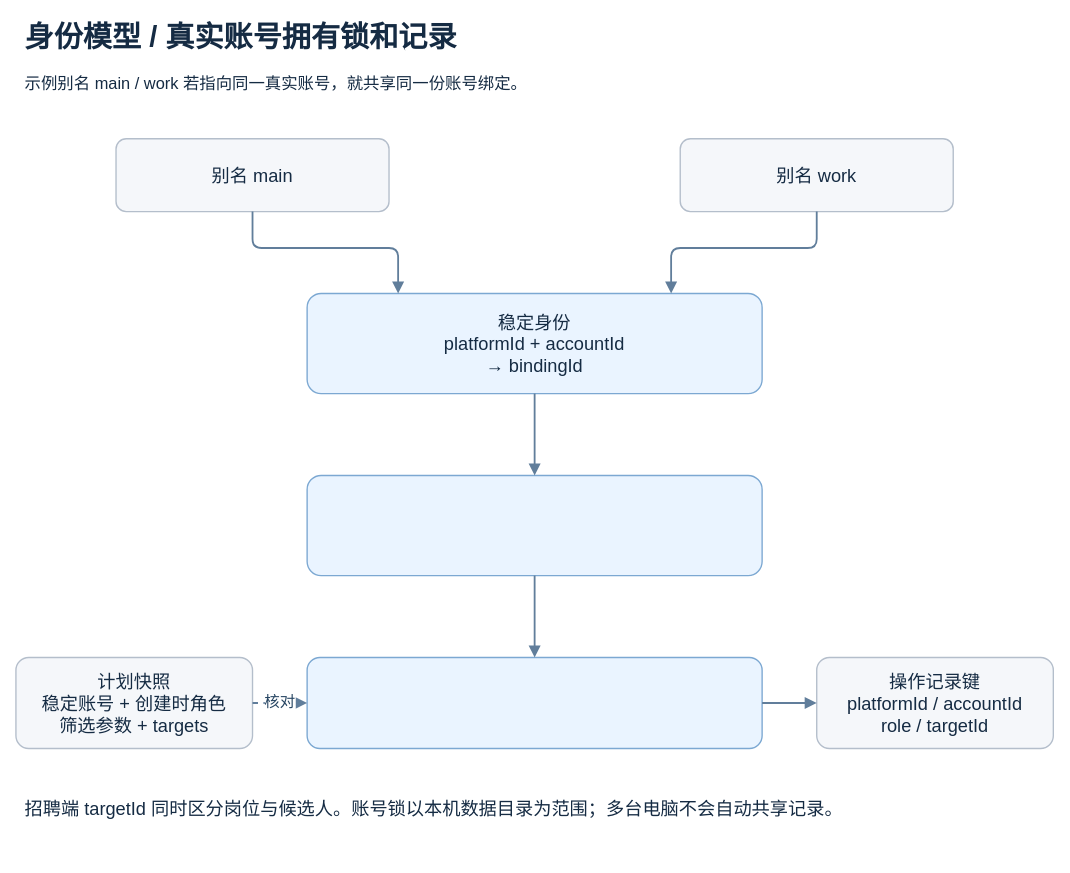
Some shapes in this 1070 by 873 pixel diagram are drawn without their labels. The centre of each missing label's shape, as x and y in pixels:
AccountRepository.use 按 bindingId 取得账号锁 读取当前 sessionId: point (534, 525)
会话与计划校验 withSession / OutreachService.run 实际账号、角色与计划一致: point (534, 702)
